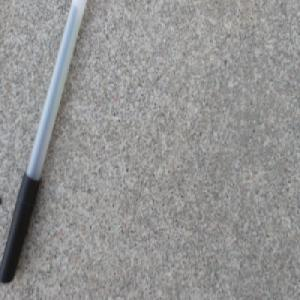Pen: (0, 0, 87, 285)
